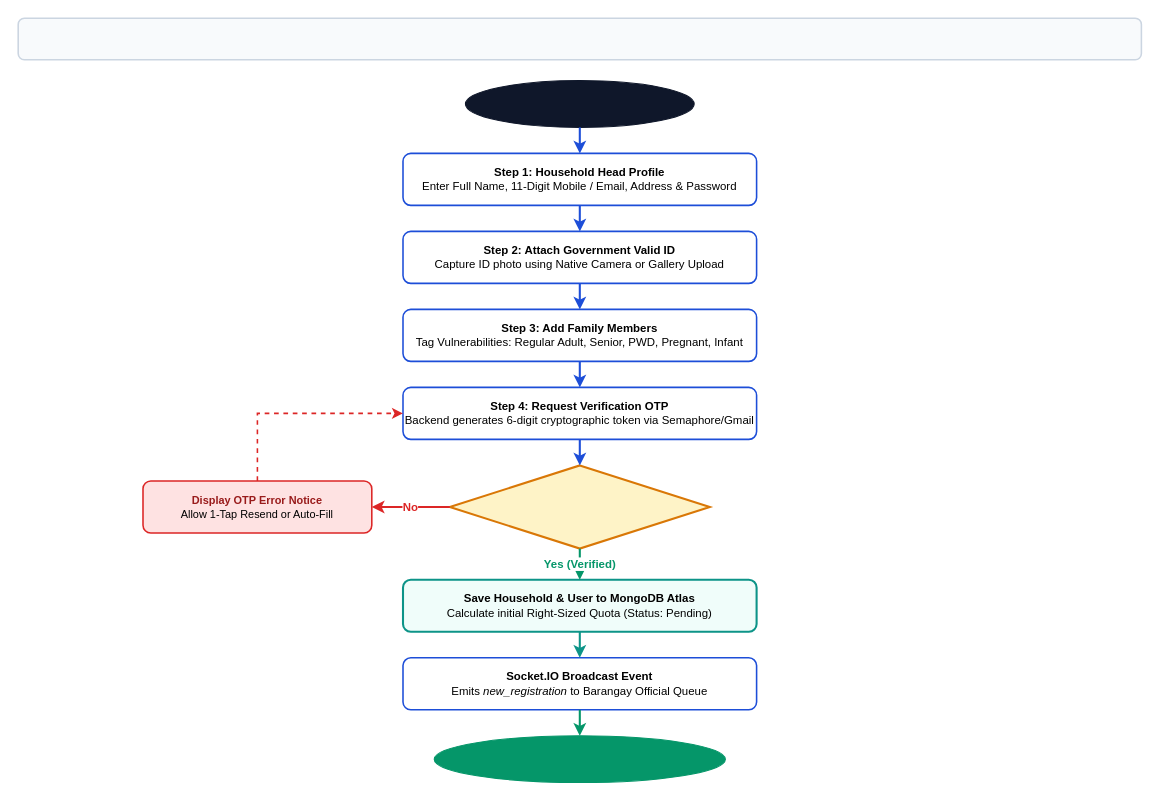
The diagram is 1161 pixels wide and 802 high, and some of its shapes have lost their labels. The shapes that lost their labels are listed below. From the top down, each one's centre as x and y in pixels, then its label:
the point at 579,38: WORKFLOW 4.1: CITIZEN REGISTRATION, ID ATTACHMENT & OTP VERIFICATION
the point at 579,103: Start: Resident Registration
the point at 579,506: Is 6-Digit OTP Valid & Unexpired?
the point at 579,759: End: Registration Submitted (Redirect to Login)
